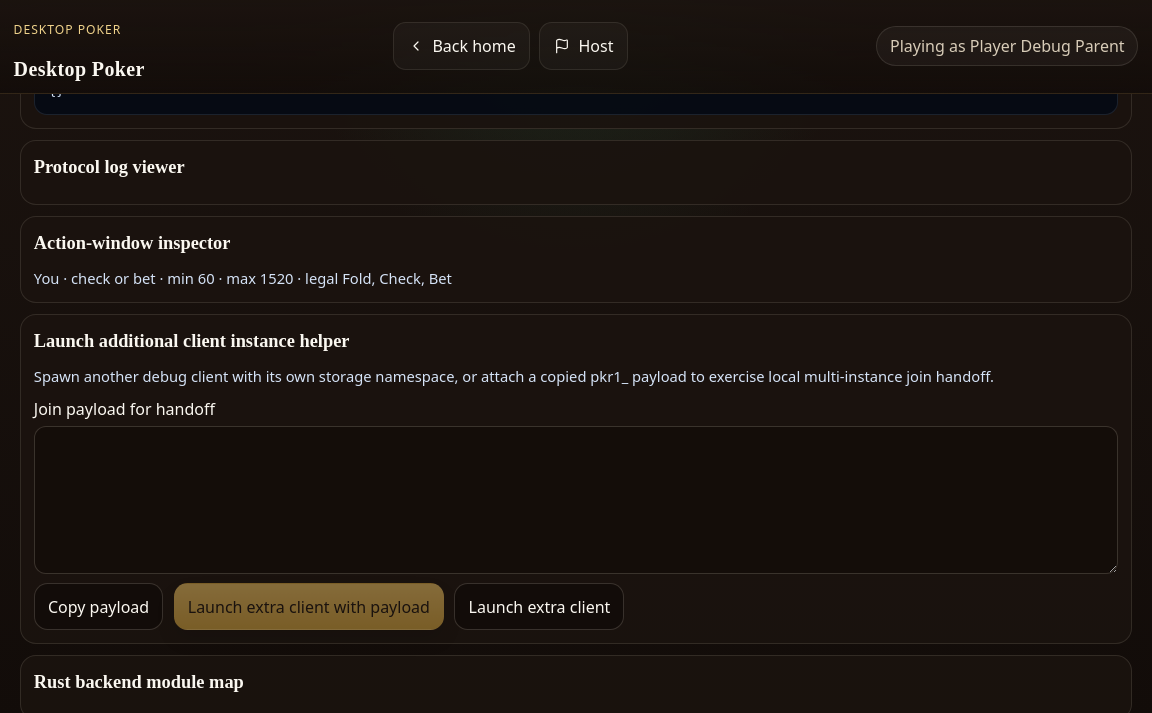
Scenario: AppShell integration (table and debug) › enters the real debug surface and reflects a payload-free child launch without corrupting the current shell state
(page scrolled)
Check: the text "Spawn another debug client" is shown, box [34,366,994,386]
Click the button "Launch extra client".
click(539, 607)  # box [454,584,624,630]
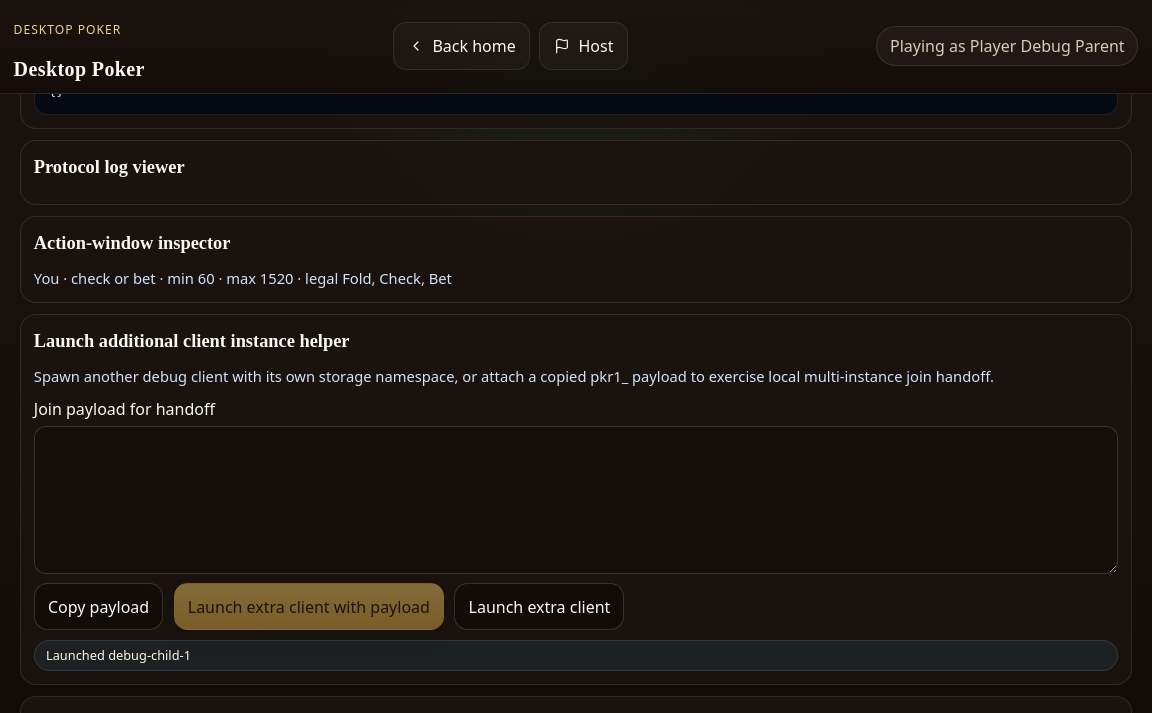
Check: the text "Launched debug-child-1" is shown, box [34,640,1118,671]
